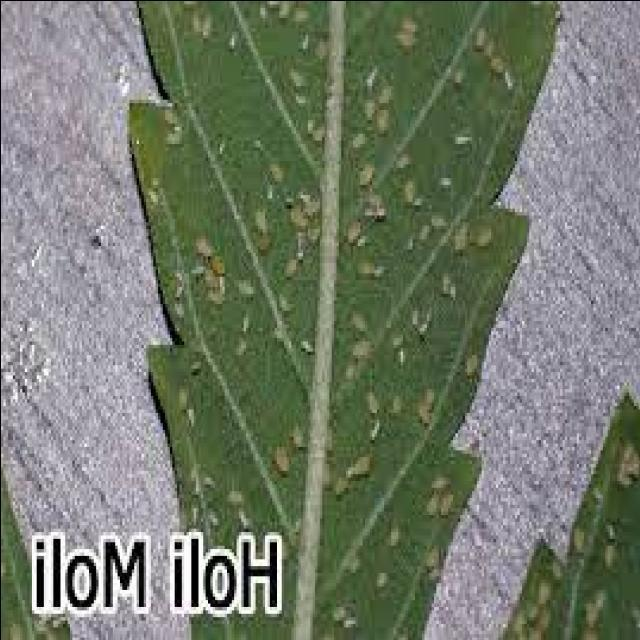aphid: (266, 432, 298, 473), (409, 211, 443, 249), (457, 341, 488, 382), (450, 211, 476, 259), (588, 572, 616, 616), (350, 439, 378, 480), (288, 412, 316, 453), (307, 108, 335, 146), (392, 20, 423, 54), (349, 296, 374, 337), (348, 327, 378, 361), (570, 510, 592, 556), (414, 394, 440, 432), (250, 197, 276, 235), (342, 211, 368, 249), (354, 153, 380, 191), (535, 565, 557, 609), (173, 371, 196, 412), (352, 249, 383, 279), (402, 166, 424, 208), (330, 462, 354, 500), (476, 214, 500, 252), (288, 194, 312, 232), (266, 150, 290, 188), (371, 98, 395, 136), (421, 483, 447, 518), (364, 378, 386, 419), (386, 511, 410, 548), (428, 463, 454, 497), (193, 224, 219, 258), (204, 245, 230, 279), (602, 531, 624, 569), (421, 374, 443, 412), (371, 558, 395, 592), (478, 28, 502, 62), (438, 483, 460, 518), (200, 4, 219, 44), (395, 7, 423, 34), (449, 58, 474, 88), (471, 17, 493, 51), (428, 204, 454, 232), (162, 99, 186, 129), (280, 249, 304, 279), (290, 0, 316, 27), (486, 48, 512, 75), (349, 122, 374, 150), (225, 477, 248, 507), (164, 122, 188, 150), (550, 548, 568, 582), (391, 384, 406, 418), (7, 612, 26, 636)
